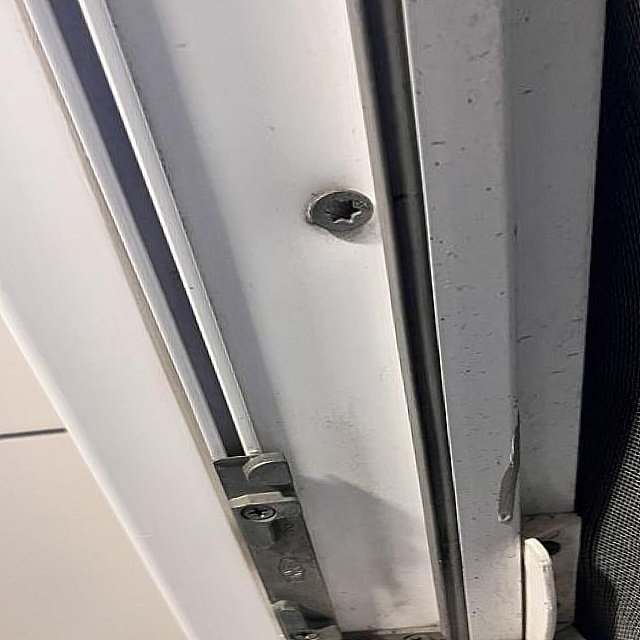phillips: (240, 504, 277, 520), (290, 630, 320, 640), (404, 634, 433, 640), (345, 635, 374, 640)
torx: (306, 187, 377, 234)
